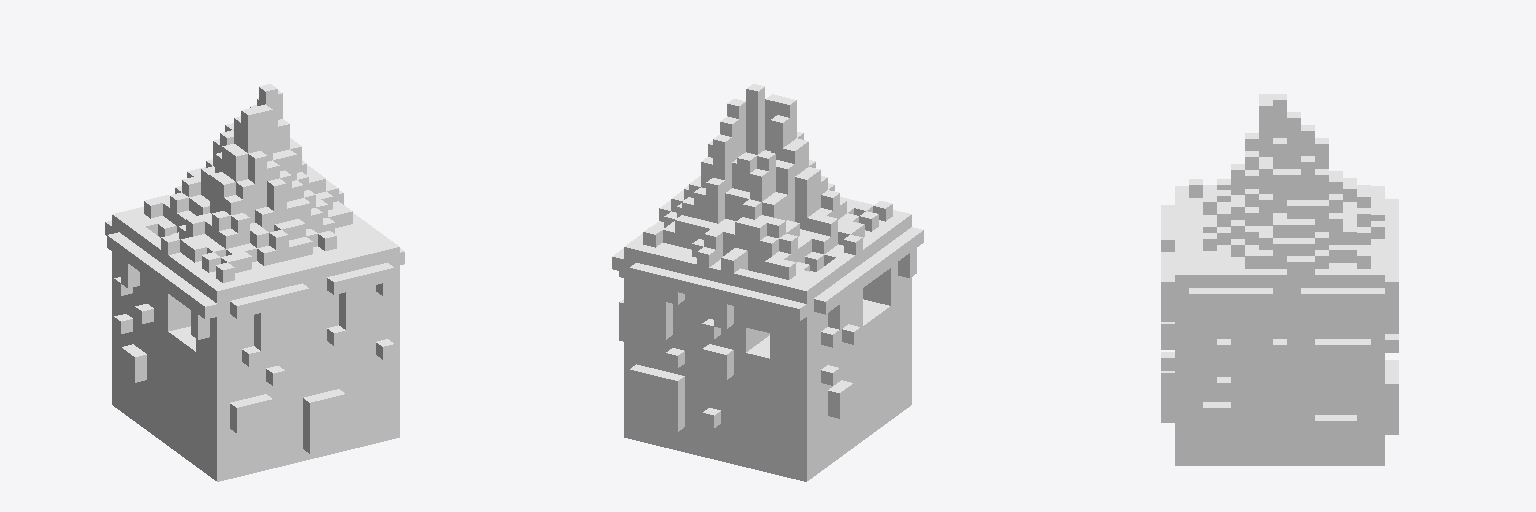
File: LavaTest_2.obj
3 renders of one model, left to right at view 1: azimuth 30°, elevation 25°; view 2: azimuth 150°, elevation 25°; view 3: azimuth 270°, elevation 25°, orthographic.
Visible parts, largest first — view 1: object 1; view 2: object 1; view 3: object 1.
Boxes of the visible parts, x1=… form: object 1: x1=105, y1=84, x2=404, y2=481; object 1: x1=612, y1=84, x2=923, y2=481; object 1: x1=1161, y1=94, x2=1398, y2=465.
Size of the model in its own units: 1.7 by 2.6 by 1.7.